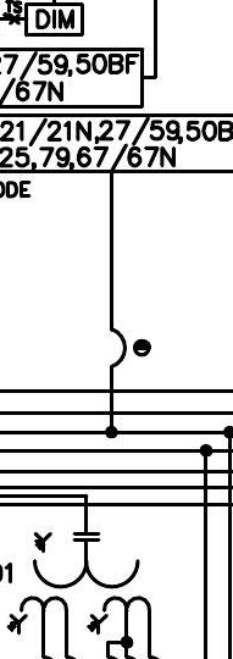115_cvt_3p: (6, 531, 152, 636)
DIM: (24, 2, 85, 37)
